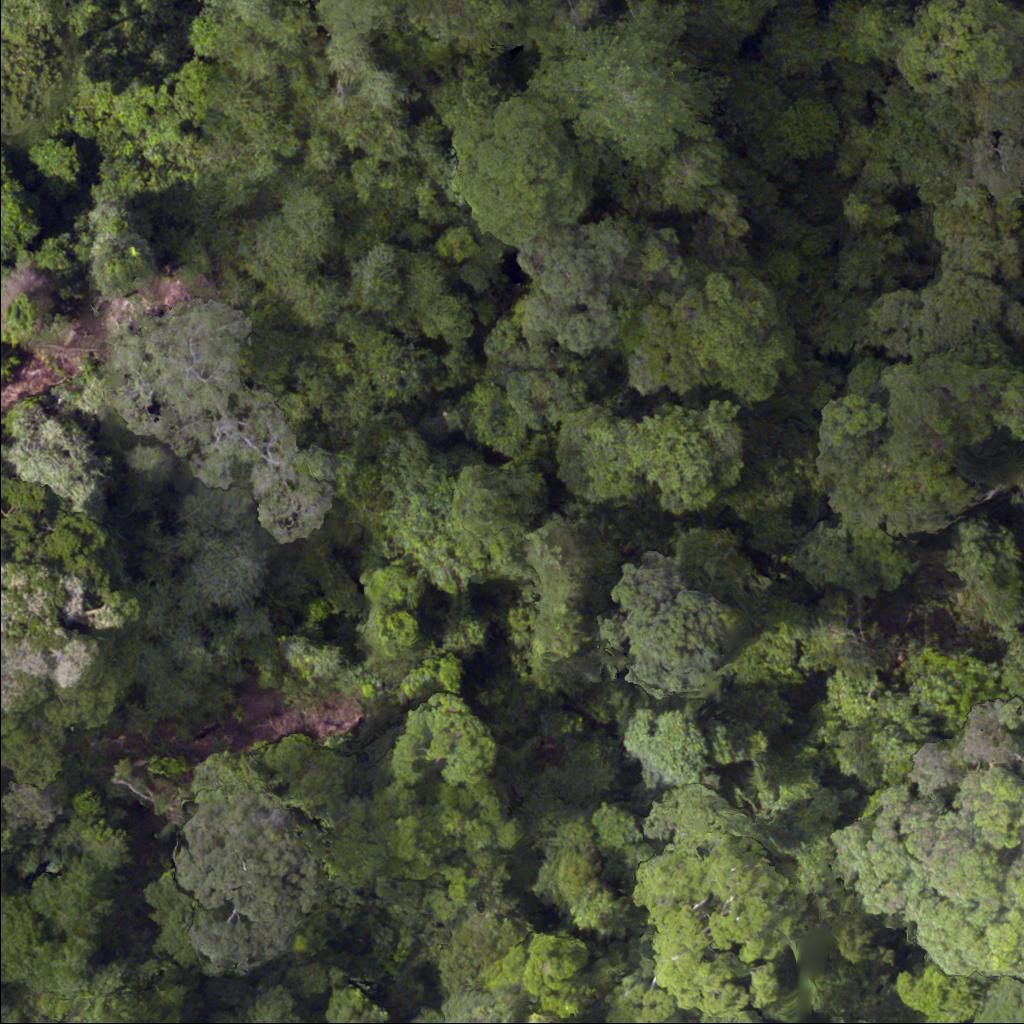crown: (828, 697, 1023, 982), (172, 754, 335, 982), (631, 819, 813, 1023), (436, 91, 598, 251), (593, 547, 755, 699), (548, 403, 744, 521), (642, 272, 806, 400), (512, 212, 644, 366), (889, 0, 1023, 96), (0, 0, 86, 147), (393, 691, 508, 796), (956, 81, 1023, 208), (703, 0, 777, 38)
